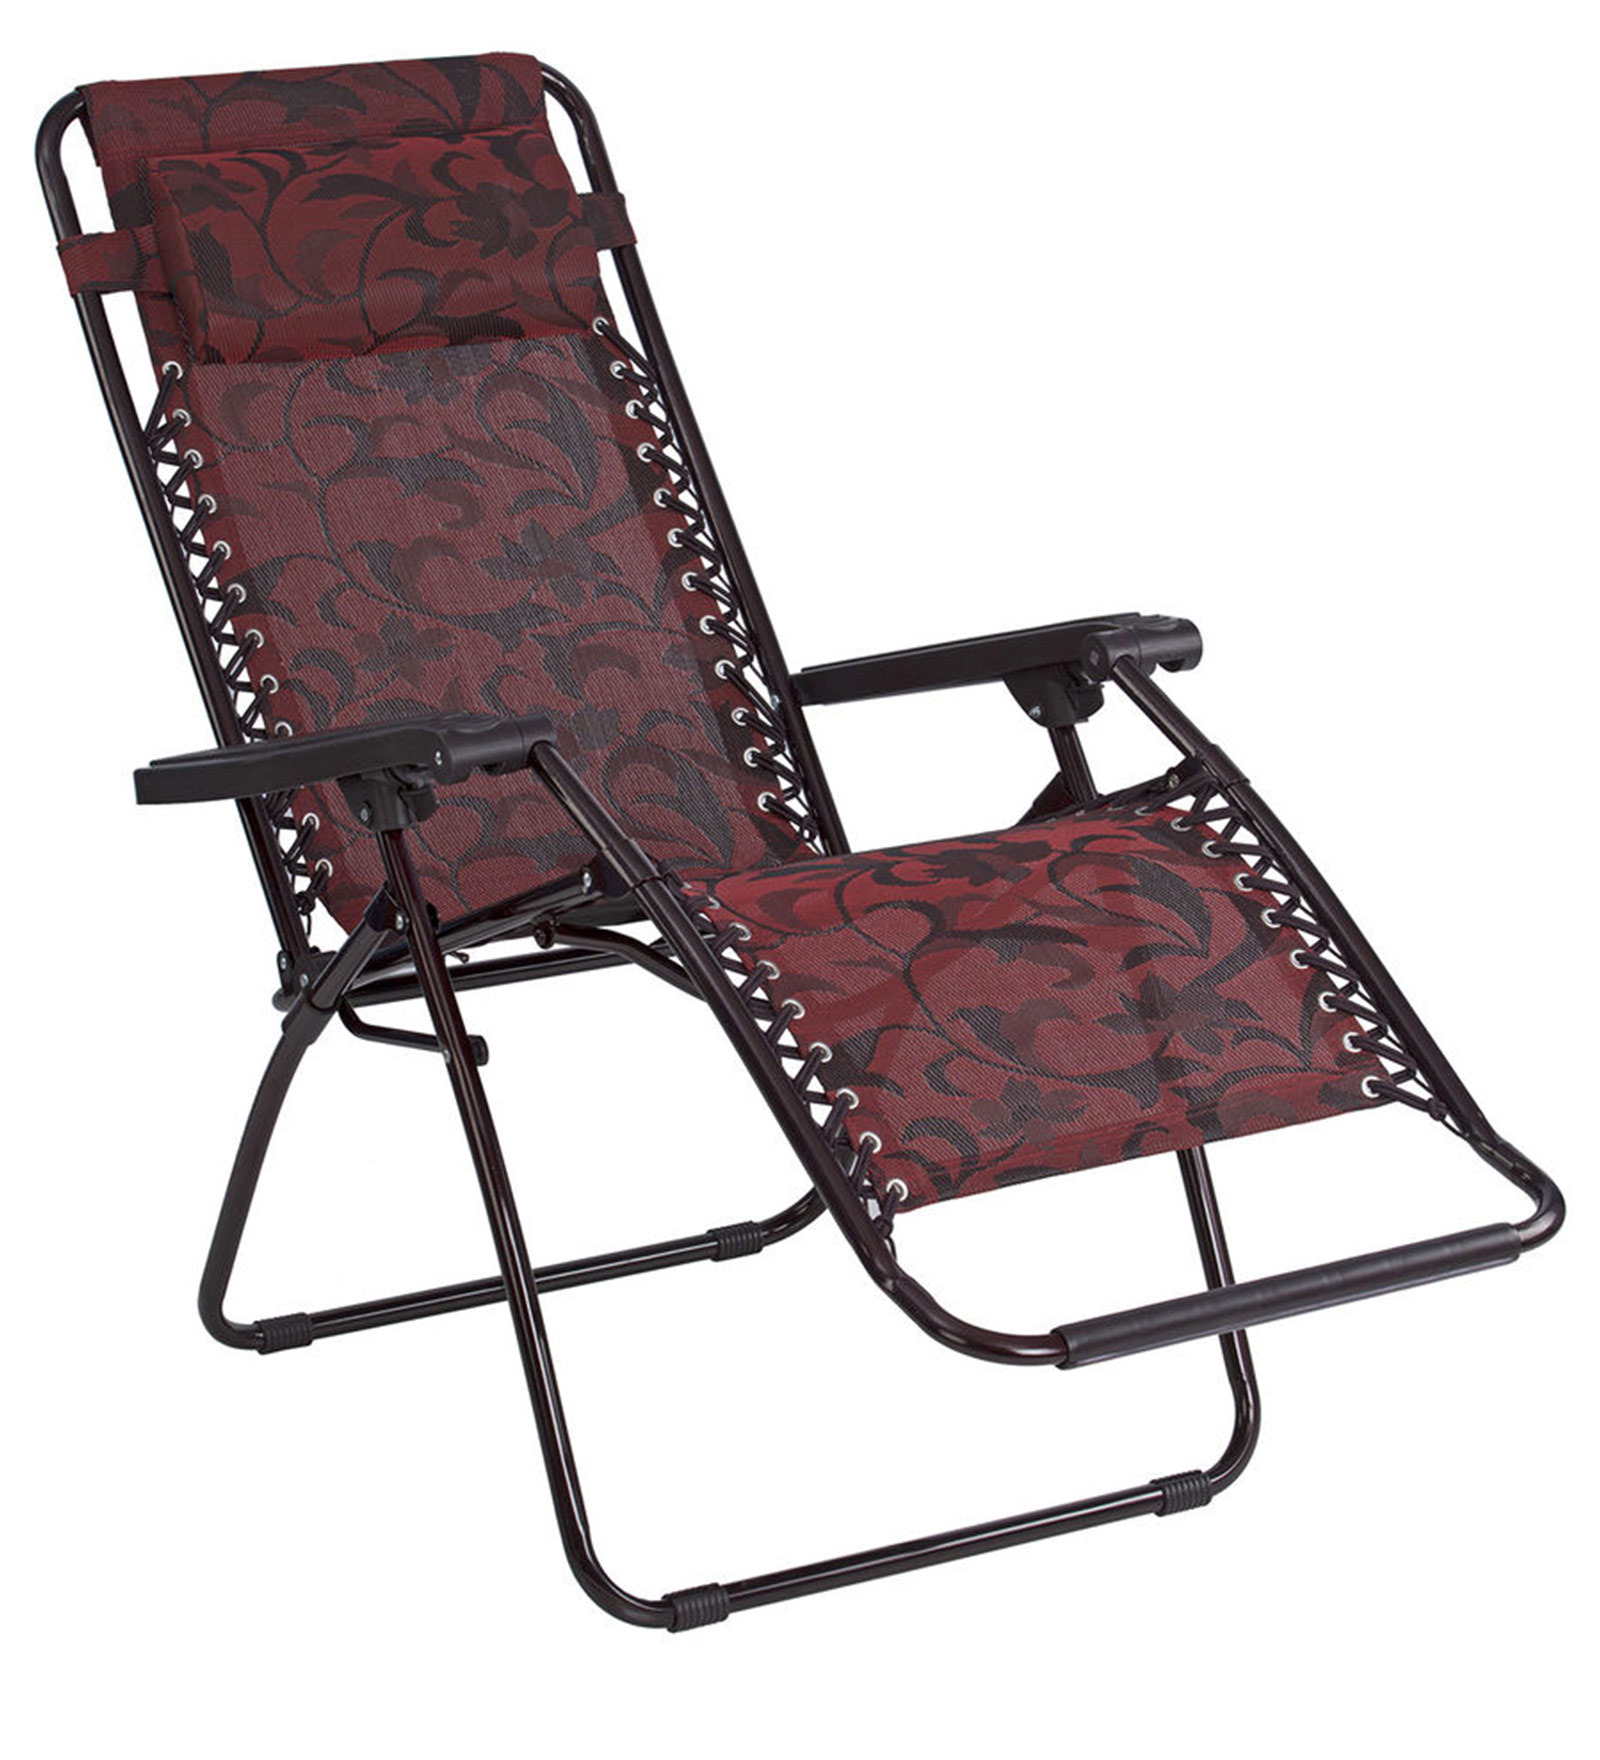Frolic Easy Foldable Chair in Purple & Red Colour by Nilkamal: (20, 31, 1579, 1671)
